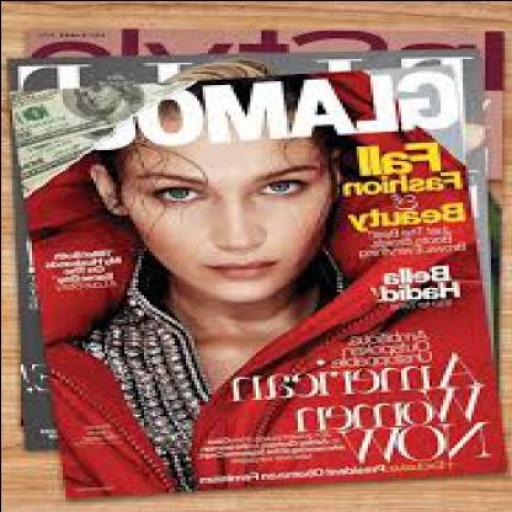paper: (12, 61, 506, 501), (22, 28, 507, 434), (25, 47, 487, 447)
